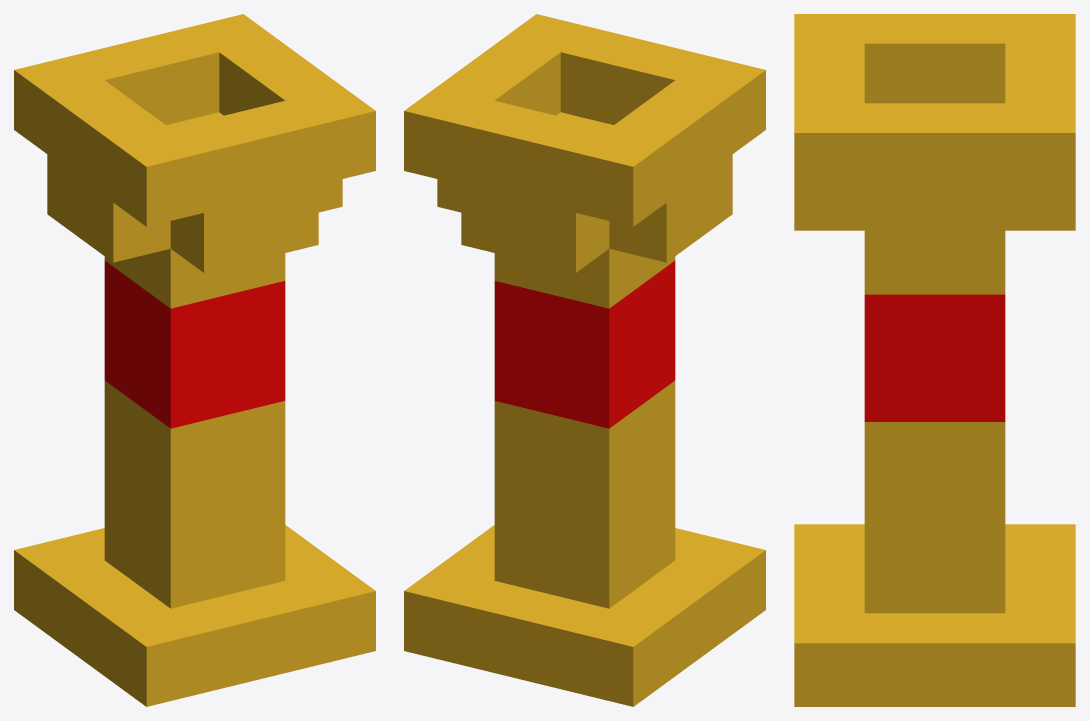
Rendered from floorTorch.obj.
The picture shows the model from 3 angles, left to right: view 1: azimuth 30°, elevation 25°; view 2: azimuth 150°, elevation 25°; view 3: azimuth 270°, elevation 25°; orthographic projection. The views are drawn at different scales.
Size of the model in its own units: 0.4 by 0.9 by 0.4.
Materials: 1 (1 with a texture image).
